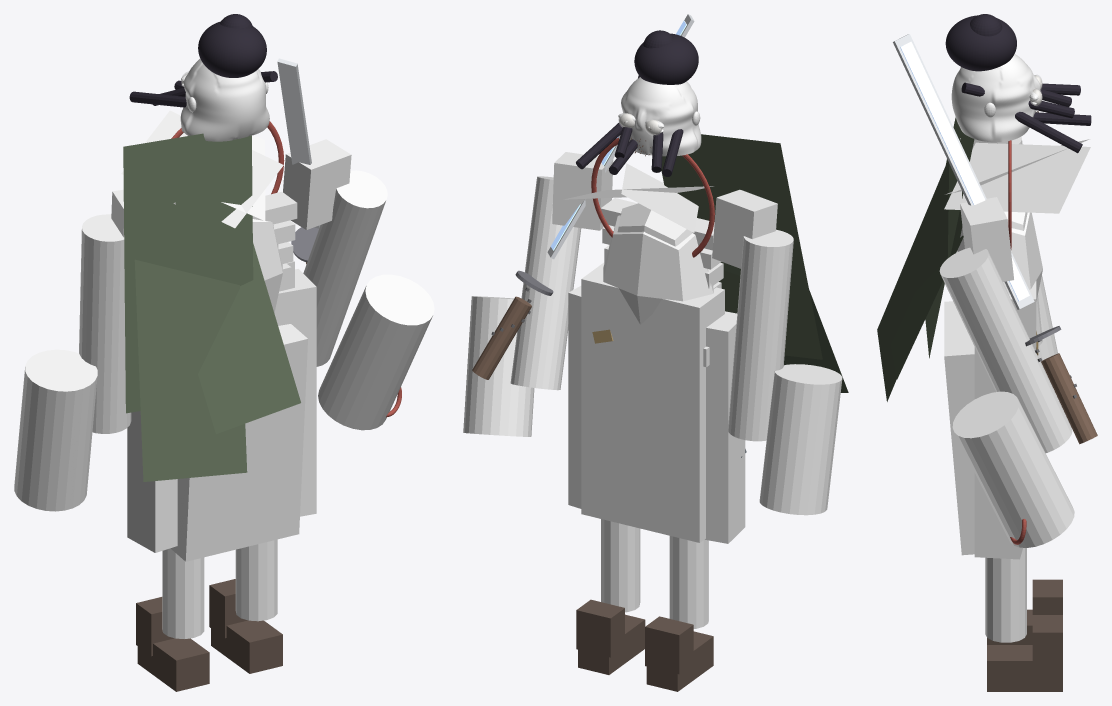
The model's file is ronin_character_v0.4.glb.
3 views of the same model, side by side, from view 1: azimuth 30°, elevation 25°; view 2: azimuth 150°, elevation 25°; view 3: azimuth 270°, elevation 25° (orthographic). The views are drawn at different scales.
Parts seen in each view (by area): view 1: Cloth_Cloak_0, Cloth_Cloak_1, Cloth_SkirtPanel_3, Cloth_SleeveLower_L, Cloth_SleeveLower_R, Cloth_Cloak_2, Cloth_SleeveUpper_L, Cloth_SleeveUpper_R, Skin_Head, Cloth_SkirtPanel_1, Cloth_SkirtPanel_2, Cloth_ShoulderGuard_R (+14 smaller); view 2: Cloth_SkirtPanel_0, Cloth_Cloak_0, Cloth_SleeveLower_L, Cloth_SleeveUpper_L, Cloth_SleeveUpper_R, Cloth_SkirtPanel_1, Cloth_ShenyiTorso, Cloth_SleeveLower_R, Skin_Head, Cloth_ShoulderGuard_L, Cloth_TrouserShin_L, Cloth_TrouserShin_R (+16 smaller); view 3: Cloth_SleeveLower_R, Cloth_SleeveUpper_R, Cloth_Lapel_R, Skin_Head, Cloth_Cloak_1, Cloth_SkirtPanel_3, Cloth_TrouserShin_R, Cloth_ShoulderGuard_R, Metal_HamonLine, Cloth_Boot_R, Hair_Bun, Cloth_SkirtPanel_2 (+16 smaller).
Boxes of the visible parts, x1,y1,x2,y2 form: Cloth_Cloak_0: (123, 133, 253, 413); Cloth_Cloak_1: (134, 259, 247, 481); Cloth_SkirtPanel_3: (171, 324, 307, 561); Cloth_SleeveLower_L: (14, 349, 97, 511); Cloth_SleeveLower_R: (318, 274, 434, 430); Cloth_Cloak_2: (198, 243, 300, 433); Cloth_SleeveUpper_L: (79, 214, 131, 433); Cloth_SleeveUpper_R: (303, 170, 387, 366); Skin_Head: (180, 58, 269, 141); Cloth_SkirtPanel_1: (127, 411, 177, 552); Cloth_SkirtPanel_2: (274, 269, 316, 516); Cloth_ShoulderGuard_R: (283, 139, 351, 229); Cloth_SkirtPanel_0: (581, 262, 724, 542); Cloth_Cloak_0: (661, 134, 822, 359); Cloth_SleeveLower_L: (759, 364, 842, 515); Cloth_SleeveUpper_L: (728, 229, 793, 441); Cloth_SleeveUpper_R: (510, 176, 581, 390); Cloth_SkirtPanel_1: (705, 311, 745, 543); Cloth_ShenyiTorso: (603, 215, 713, 324); Cloth_SleeveLower_R: (463, 296, 534, 436); Skin_Head: (618, 77, 701, 156); Cloth_ShoulderGuard_L: (712, 189, 777, 268); Cloth_TrouserShin_L: (669, 536, 708, 628); Cloth_TrouserShin_R: (601, 519, 640, 612); Cloth_SleeveLower_R: (952, 391, 1074, 547); Cloth_SleeveUpper_R: (939, 247, 1072, 452); Cloth_Lapel_R: (944, 142, 1090, 213); Skin_Head: (951, 54, 1040, 142); Cloth_Cloak_1: (877, 160, 960, 401); Cloth_SkirtPanel_3: (944, 301, 974, 555); Cloth_TrouserShin_R: (985, 548, 1026, 642); Cloth_ShoulderGuard_R: (960, 197, 1013, 281); Metal_HamonLine: (900, 41, 1029, 301); Cloth_Boot_R: (987, 645, 1062, 691); Hair_Bun: (945, 15, 1016, 71); Cloth_SkirtPanel_2: (974, 347, 1022, 559).
Size of the model in its own units: 1.18 by 1.9 by 0.5814.
